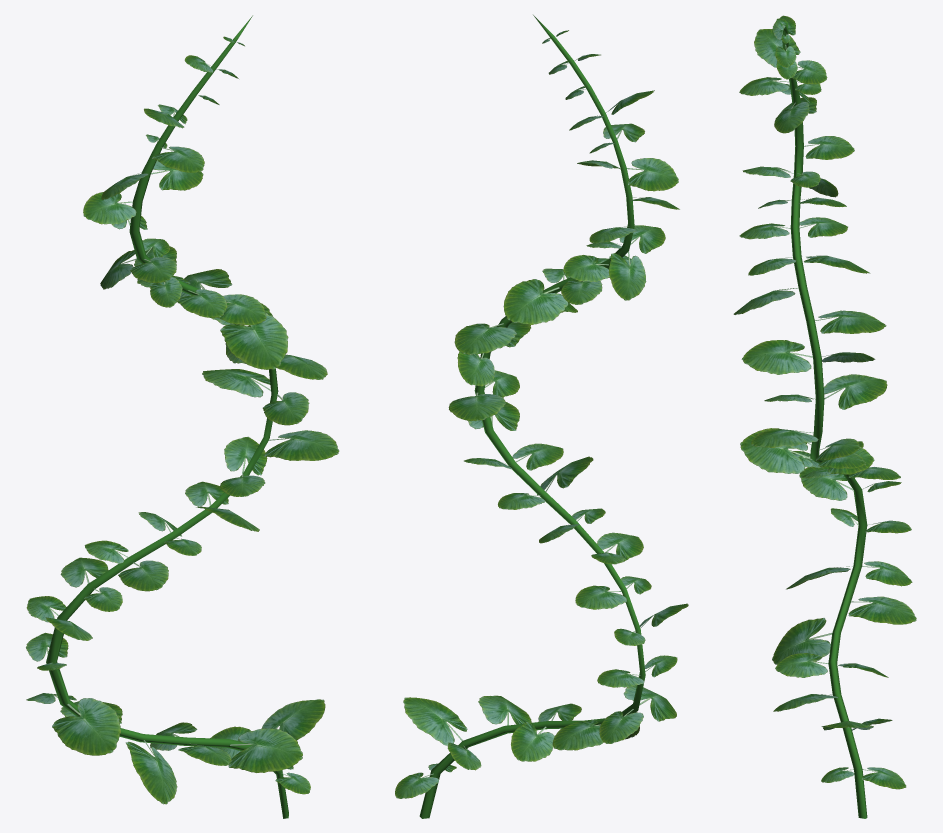
File: Plant_Line_01.FBX
3 views of the same model, side by side, from view 1: azimuth 30°, elevation 25°; view 2: azimuth 150°, elevation 25°; view 3: azimuth 270°, elevation 25° (orthographic). The views are drawn at different scales.
Parts seen in each view (by area): view 1: Plant_Line_01; view 2: Plant_Line_01; view 3: Plant_Line_01.
Part boxes in pixels (x1,y1,x2,y2): Plant_Line_01: [26, 15, 339, 818]; Plant_Line_01: [395, 15, 688, 818]; Plant_Line_01: [733, 15, 916, 818].
Size of the model in its own units: 1.07 by 2.89 by 0.675.
1 material, 1 textured.
